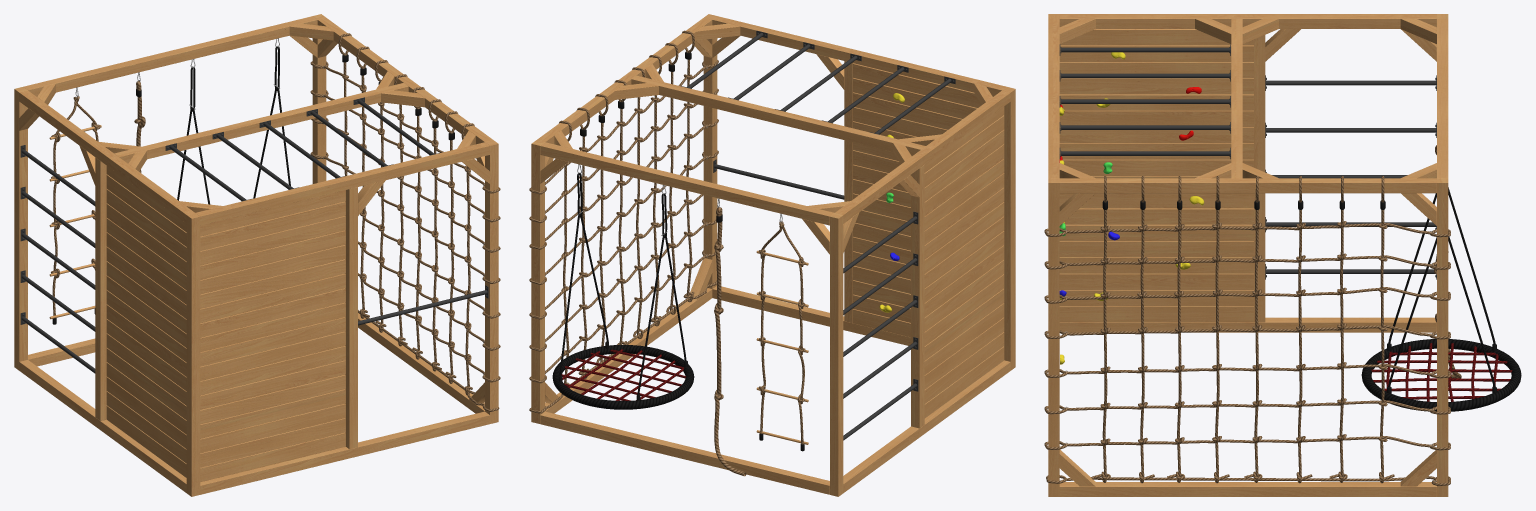
File: wooden-boyz-jasiek.glb
3 views of the same model, side by side, from view 1: azimuth 30°, elevation 25°; view 2: azimuth 150°, elevation 25°; view 3: azimuth 270°, elevation 25° (orthographic). The views are drawn at different scales.
Parts seen in each view (by area): view 1: Mesh59, Mesh3.003, Mesh3.004, Mesh3.008, Rope.031, Rope.038, Rope.022, Rope.039, Rope.023, Rope.040, Rope.024, Rope.037 (+8 smaller); view 2: Mesh59, Rope.031, Mesh3.003, Mesh3.004, Mesh3.008, karabiner.019, Rope.020, Rope.019, Rope.021, Rope.022, Rope.034, Rope.039 (+10 smaller); view 3: Mesh59, Rope.031, Mesh3.003, Mesh3.004, Rope.019, Rope.022, Rope.021, Rope.020, Rope.024, Rope.034, Rope.023, Rope.032 (+9 smaller).
Part boxes in pixels (x1,y1,x2,y2): Mesh59: (14,14,498,496); Mesh3.003: (165,97,440,201); Mesh3.004: (20,145,95,373); Mesh3.008: (49,87,101,324); Rope.031: (177,38,290,204); Rope.038: (428,99,441,371); Rope.022: (310,152,500,283); Rope.039: (445,111,457,383); Rope.023: (310,90,500,222); Rope.040: (461,123,474,395); Rope.024: (310,61,500,193); Rope.037: (412,87,424,359); Mesh59: (531,14,1015,496); Rope.031: (552,164,694,409); Mesh3.003: (681,30,955,134); Mesh3.004: (843,211,918,440); Mesh3.008: (756,213,808,451); karabiner.019: (714,198,746,476); Rope.020: (529,219,716,351); Rope.019: (529,250,715,383); Rope.021: (529,194,703,319); Rope.022: (529,150,718,284); Rope.034: (529,119,718,249); Rope.039: (665,43,678,314); Mesh59: (1048,14,1448,496); Rope.031: (1361,187,1521,411); Mesh3.003: (1059,44,1230,159); Mesh3.004: (1265,75,1436,279); Rope.019: (1044,434,1450,450); Rope.022: (1044,323,1450,339); Rope.021: (1044,362,1450,378); Rope.020: (1044,398,1450,414); Rope.024: (1044,221,1450,237); Rope.034: (1044,287,1450,303); Rope.023: (1044,253,1450,269); Rope.032: (1046,475,1450,485).
Size of the model in its own units: 2.49 by 2.16 by 2.95.
Materials: 12 (5 with a texture image).
